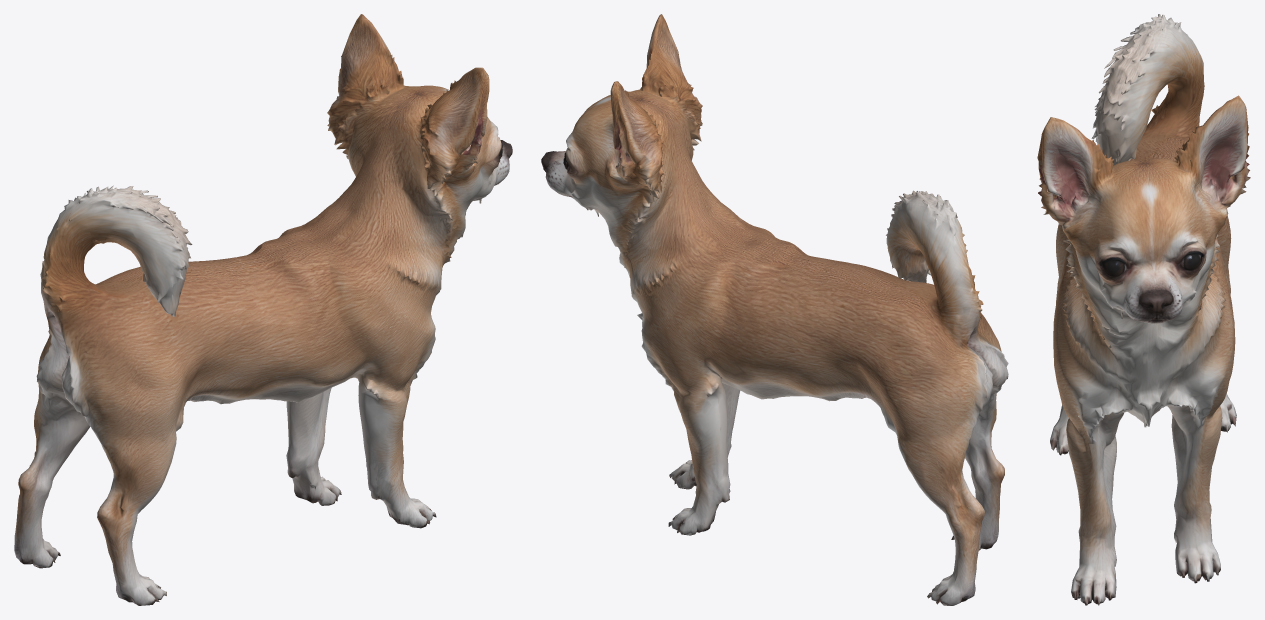
Rendered from chihuahua.glb.
3 renders of one model, left to right at view 1: azimuth 30°, elevation 25°; view 2: azimuth 150°, elevation 25°; view 3: azimuth 270°, elevation 25°, orthographic. The views are drawn at different scales.
Visible parts, largest first — view 1: tripo_node_60f453f3-51c9-48dd-a617-ba7e19e5b2ca; view 2: tripo_node_60f453f3-51c9-48dd-a617-ba7e19e5b2ca; view 3: tripo_node_60f453f3-51c9-48dd-a617-ba7e19e5b2ca.
Boxes of the visible parts, left/top/right/bottom form: tripo_node_60f453f3-51c9-48dd-a617-ba7e19e5b2ca: left=14, top=14, right=512, bottom=605; tripo_node_60f453f3-51c9-48dd-a617-ba7e19e5b2ca: left=541, top=14, right=1008, bottom=605; tripo_node_60f453f3-51c9-48dd-a617-ba7e19e5b2ca: left=1037, top=14, right=1250, bottom=605.
Size of the model in its own units: 1 by 0.9286 by 0.3513.
1 material, 1 textured.
